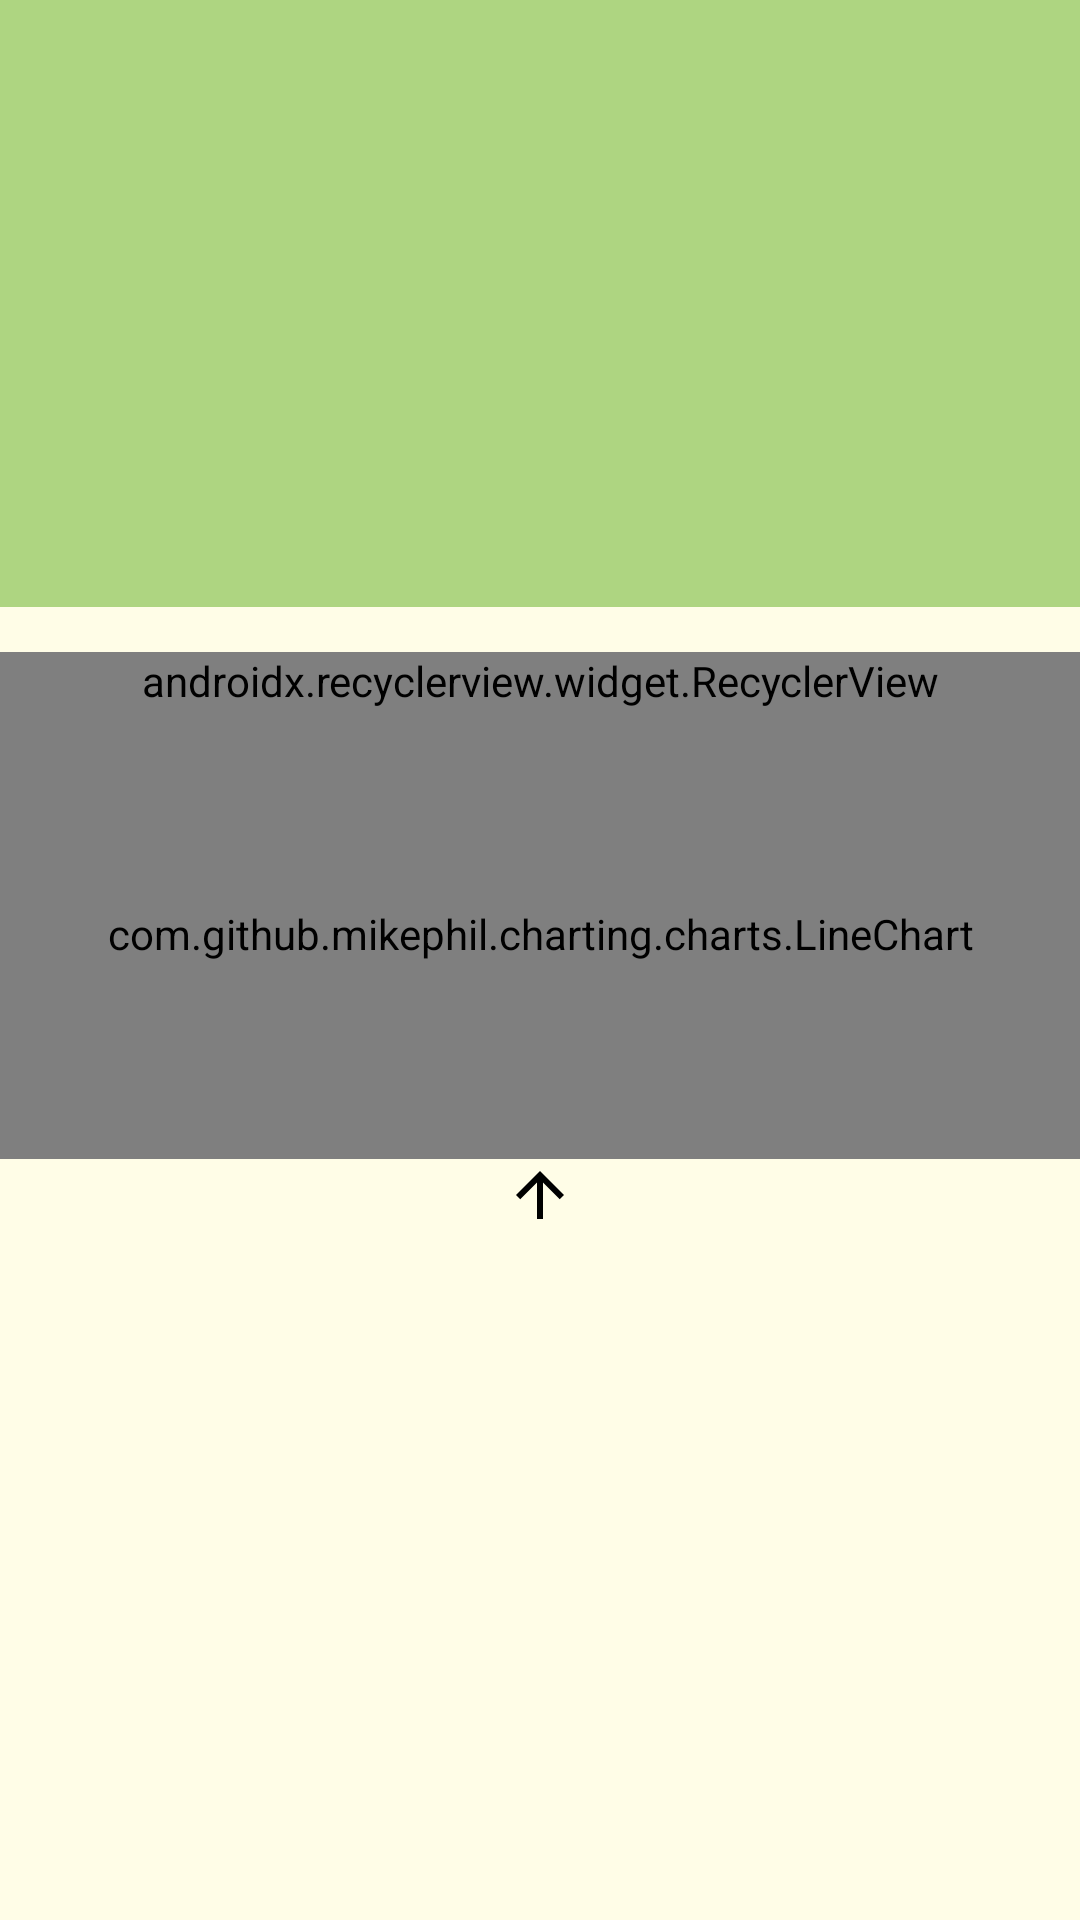

Screen size 1080×1920. Icon name, then its box in pixels as (left=x1, top=y1, right=x2, bottom=y2):
wind direction: (left=516, top=1171, right=564, bottom=1219)
